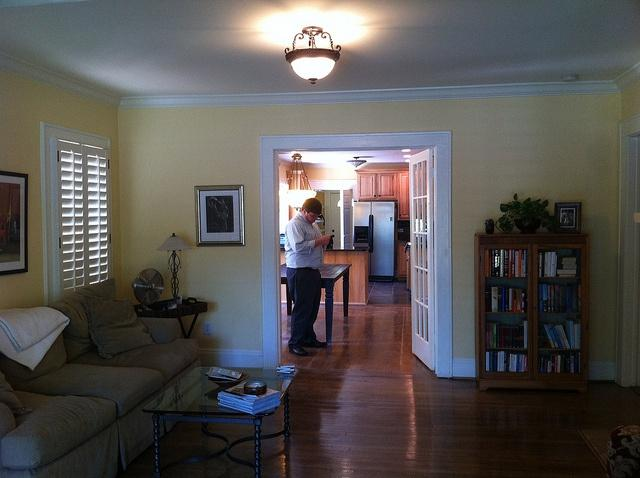Meja: (279, 261, 352, 298)
Rak: (478, 233, 587, 391)
